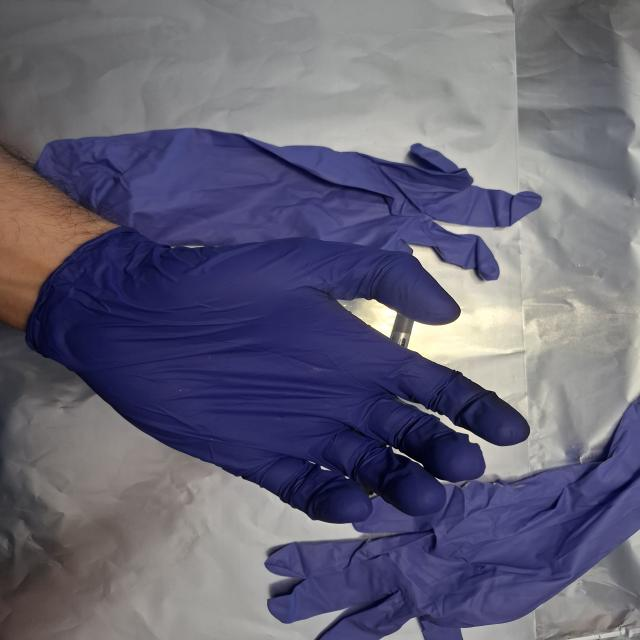glove_on: (29, 222, 533, 526)
